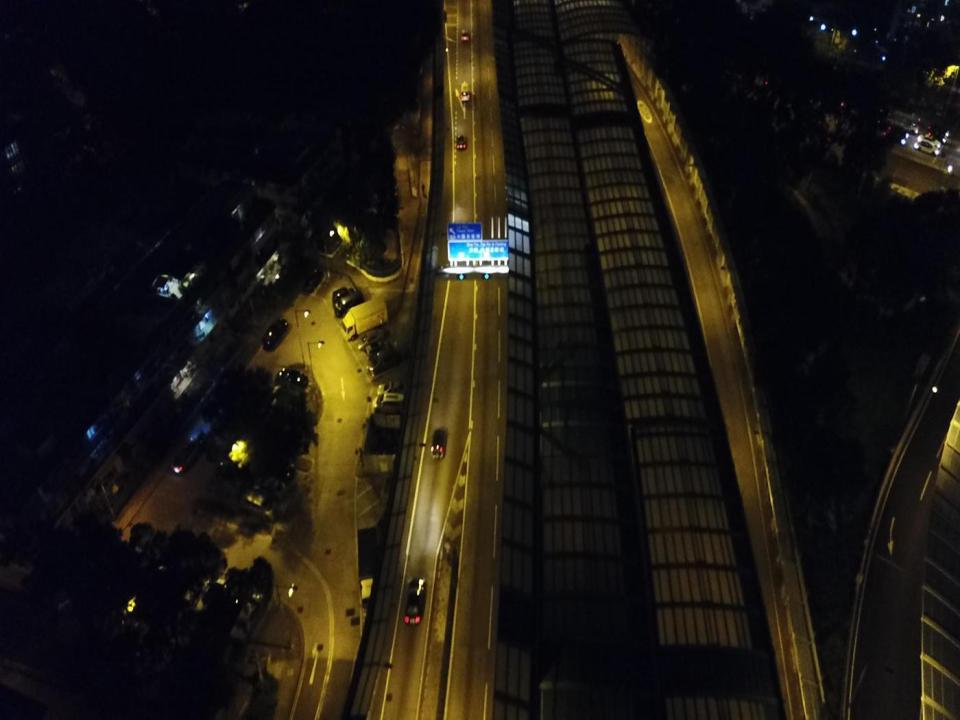car: (170, 436, 205, 475), (403, 576, 428, 626), (239, 489, 279, 520), (366, 344, 401, 374), (262, 317, 290, 351), (252, 473, 287, 500), (334, 289, 365, 318), (363, 337, 397, 362), (276, 367, 309, 390), (355, 327, 388, 349), (375, 379, 408, 397), (431, 426, 447, 460), (331, 286, 355, 304), (455, 134, 468, 151), (460, 90, 471, 102), (460, 30, 470, 41)
truck: (340, 296, 388, 341)
van: (371, 391, 407, 417)
